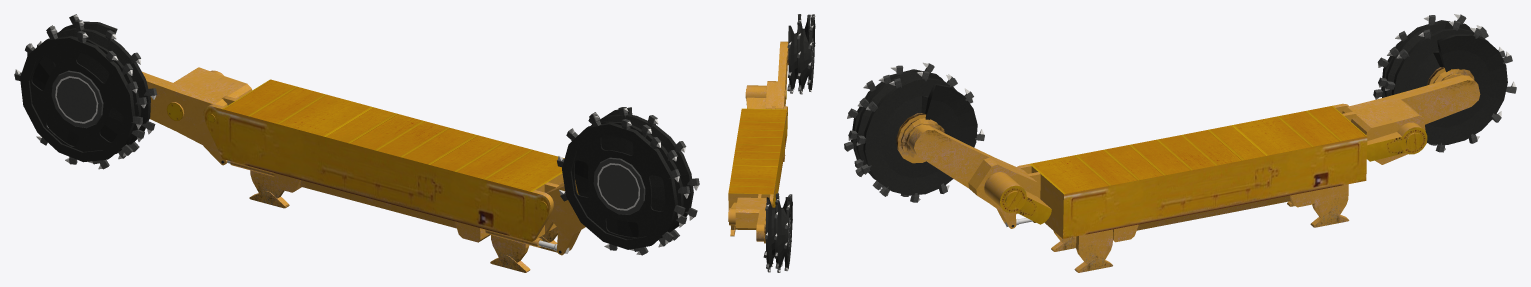
The model's file is machine.obj.
3 renders of one model, left to right at view 1: azimuth 30°, elevation 25°; view 2: azimuth 150°, elevation 25°; view 3: azimuth 270°, elevation 25°, orthographic. The views are drawn at different scales.
Visible parts, largest first — view 1: ______; view 2: ______; view 3: ______.
Boxes of the visible parts, box(x1,y1,x2,y2) form: ______: box(14, 14, 699, 272); ______: box(728, 14, 815, 272); ______: box(844, 14, 1516, 272).
Size of the model in its own units: 3.85 by 2.27 by 7.08.
